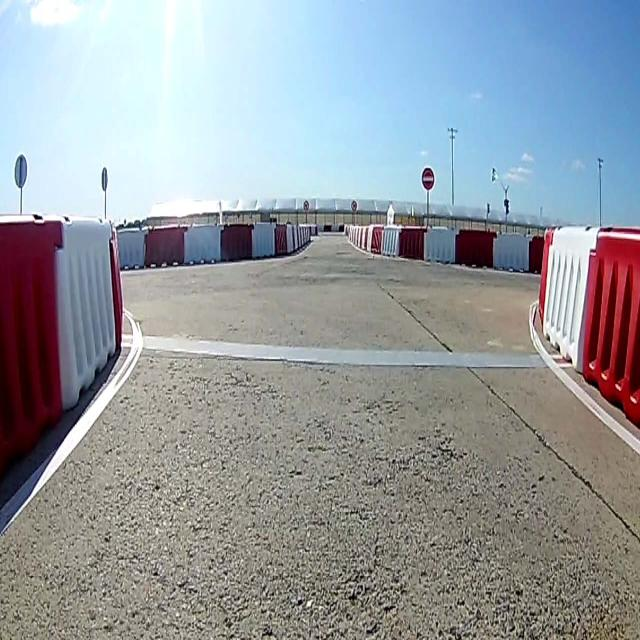girisyok: (422, 166, 434, 191)
